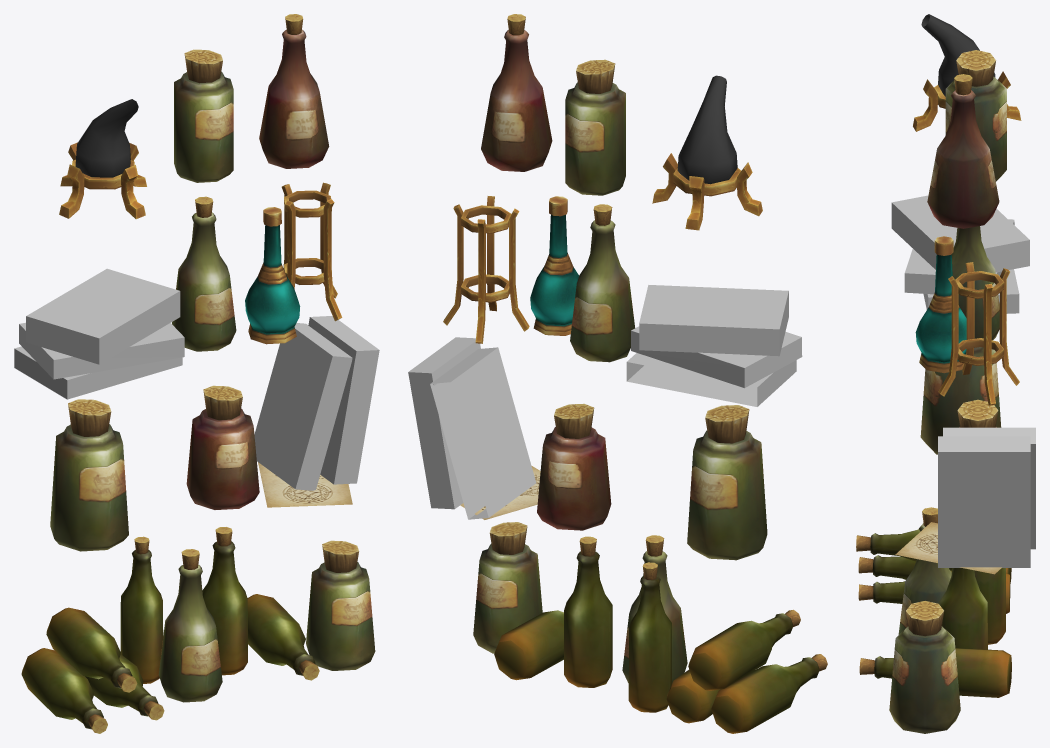
The model's file is Cupboard_Preset_05.FBX.
3 views of the same model, side by side, from view 1: azimuth 30°, elevation 25°; view 2: azimuth 150°, elevation 25°; view 3: azimuth 270°, elevation 25° (orthographic). The views are drawn at different scales.
Parts seen in each view (by area): view 1: Cupboard_Preset_05; view 2: Cupboard_Preset_05; view 3: Cupboard_Preset_05.
Part boxes in pixels (left/top/right/bottom): Cupboard_Preset_05: left=14, top=14, right=379, bottom=733; Cupboard_Preset_05: left=408, top=14, right=827, bottom=733; Cupboard_Preset_05: left=856, top=14, right=1035, bottom=733.
Size of the model in its own units: 124 by 57.97 by 224.
